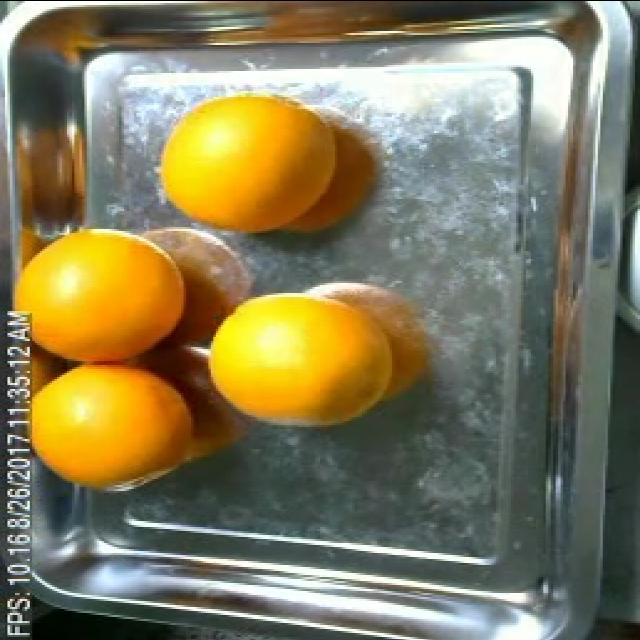Fruit: (2, 226, 216, 380), (18, 350, 226, 508), (194, 292, 392, 444)
